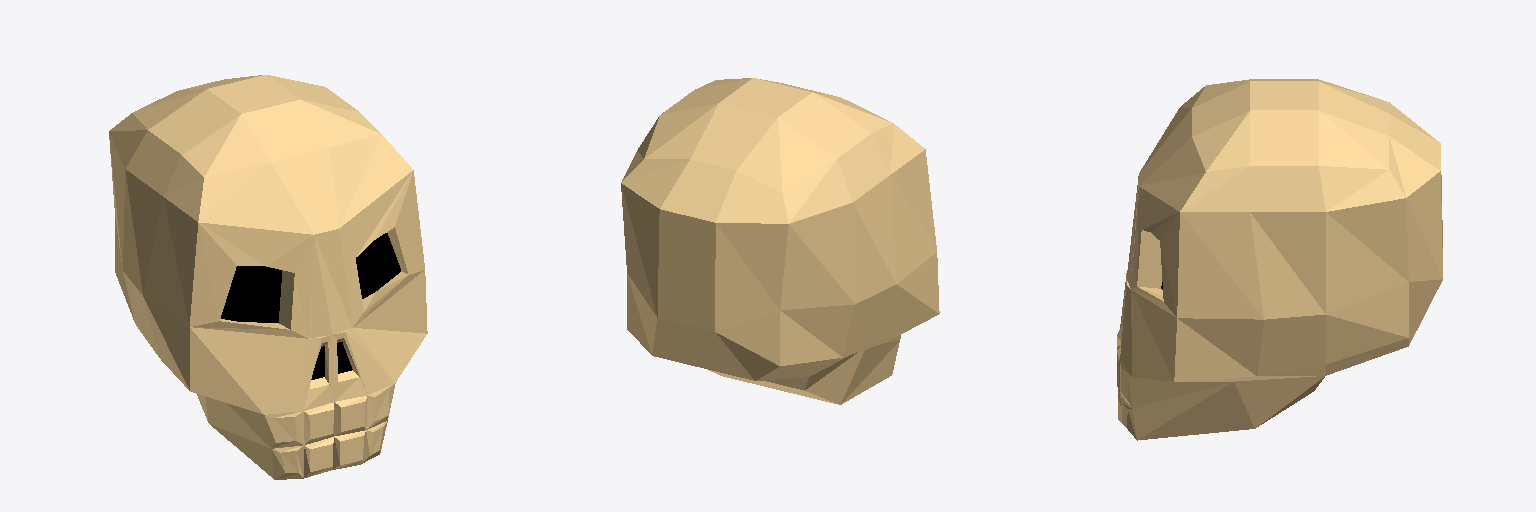
Rendered from Skull02.obj.
3 views of the same model, side by side, from view 1: azimuth 30°, elevation 25°; view 2: azimuth 150°, elevation 25°; view 3: azimuth 270°, elevation 25° (orthographic).
Parts seen in each view (by area): view 1: Skull01_Cube.001; view 2: Skull01_Cube.001; view 3: Skull01_Cube.001.
Boxes of the visible parts, box(x1,y1,x2,y2) form: Skull01_Cube.001: box(109, 75, 427, 479); Skull01_Cube.001: box(621, 78, 939, 404); Skull01_Cube.001: box(1117, 79, 1442, 440).
Size of the model in its own units: 1.23 by 1.55 by 1.44.